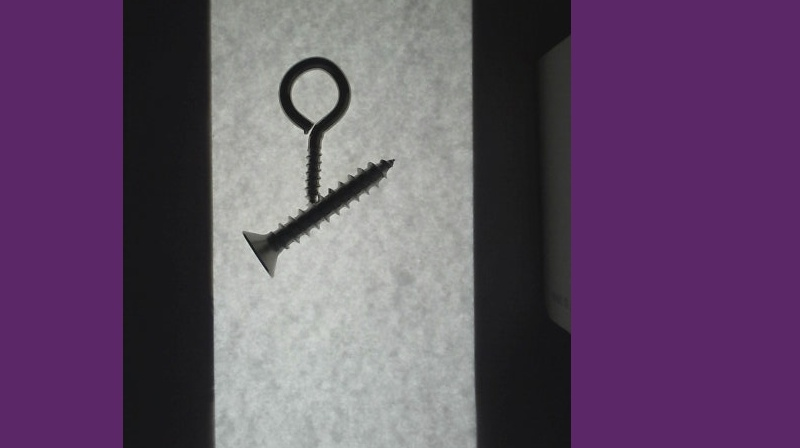O001: (277, 55, 351, 208)
S001: (243, 154, 395, 277)
